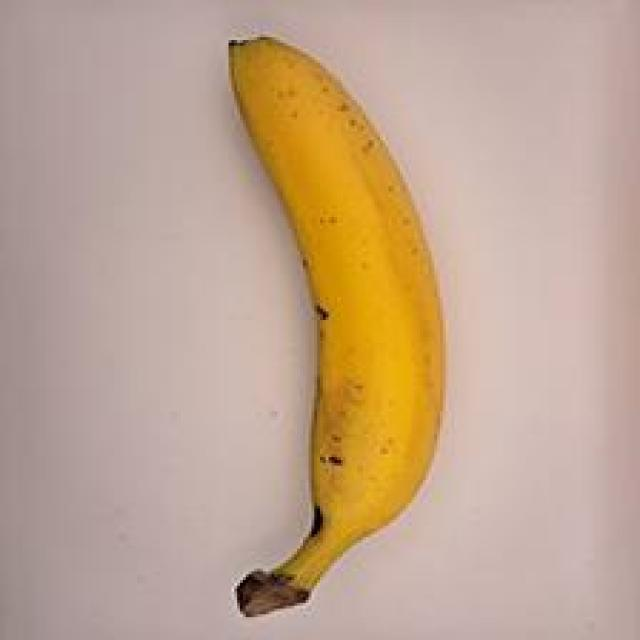ripe: (164, 26, 471, 616)
